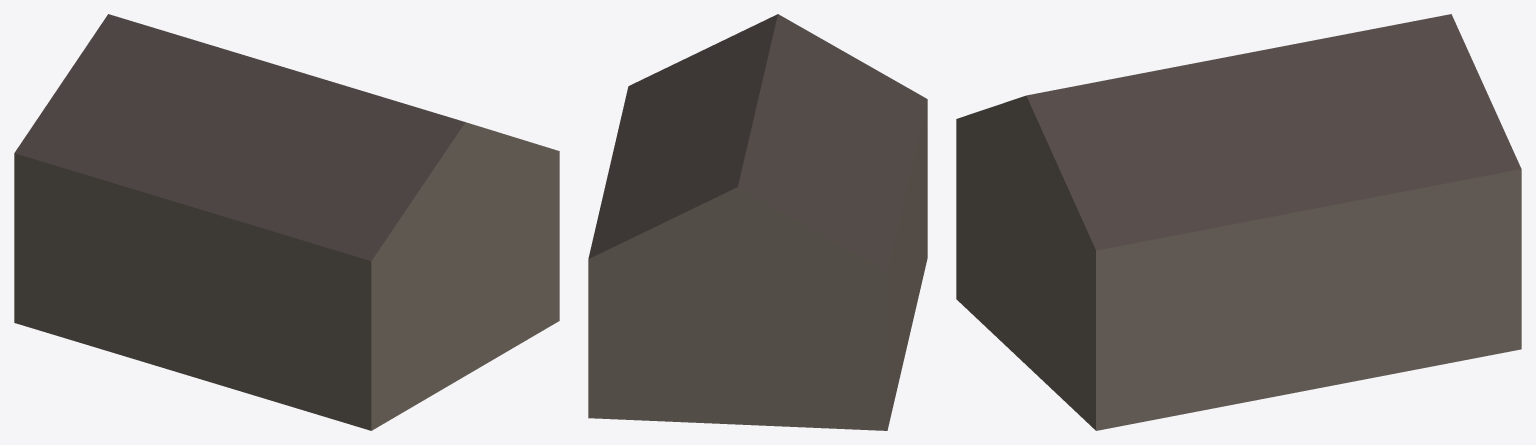
3 views of the same model, side by side, from view 1: azimuth 30°, elevation 25°; view 2: azimuth 150°, elevation 25°; view 3: azimuth 270°, elevation 25° (orthographic). The views are drawn at different scales.
Parts seen in each view (by area): view 1: HP-w859447911; view 2: HP-w859447911; view 3: HP-w859447911.
Part boxes in pixels (bbox=[...]): HP-w859447911: bbox=[14, 14, 559, 430]; HP-w859447911: bbox=[588, 14, 927, 430]; HP-w859447911: bbox=[956, 14, 1521, 430].
Size of the model in its own units: 15.21 by 8.97 by 17.04.
